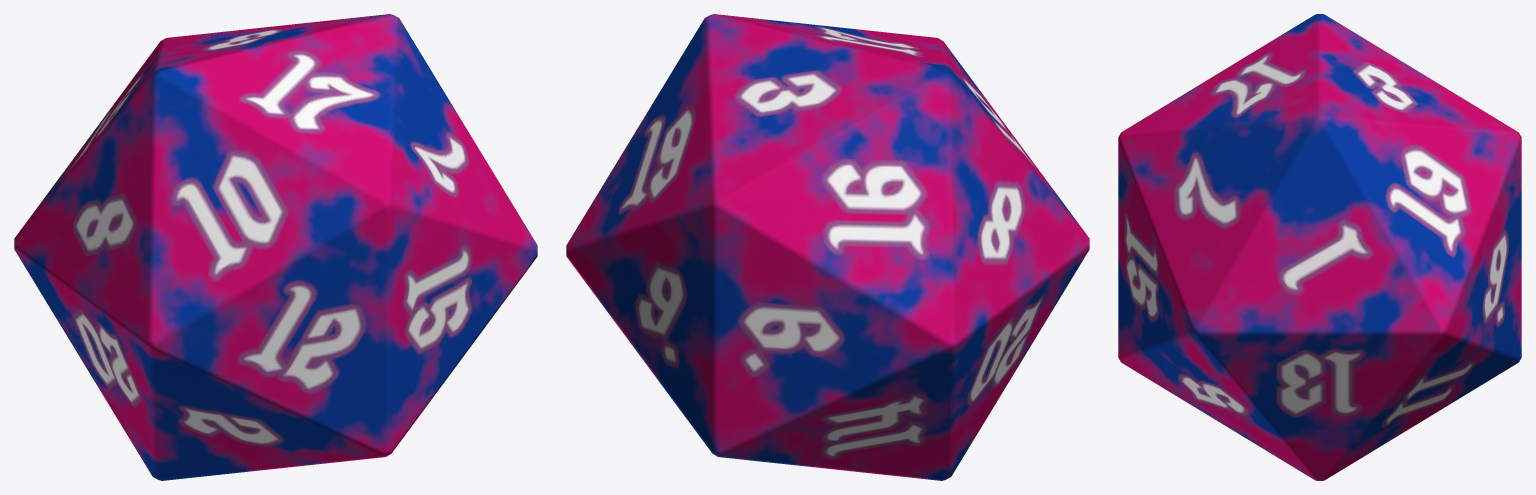
3 views of the same model, side by side, from view 1: azimuth 30°, elevation 25°; view 2: azimuth 150°, elevation 25°; view 3: azimuth 270°, elevation 25° (orthographic). The views are drawn at different scales.
Parts seen in each view (by area): view 1: Mesh_0; view 2: Mesh_0; view 3: Mesh_0.
Boxes of the visible parts, x1,y1,x2,y2 form: Mesh_0: (14, 14, 537, 480); Mesh_0: (566, 14, 1089, 480); Mesh_0: (1118, 14, 1521, 480).
Size of the model in its own units: 169 by 169 by 169.
Materials: 1 (1 with a texture image).
